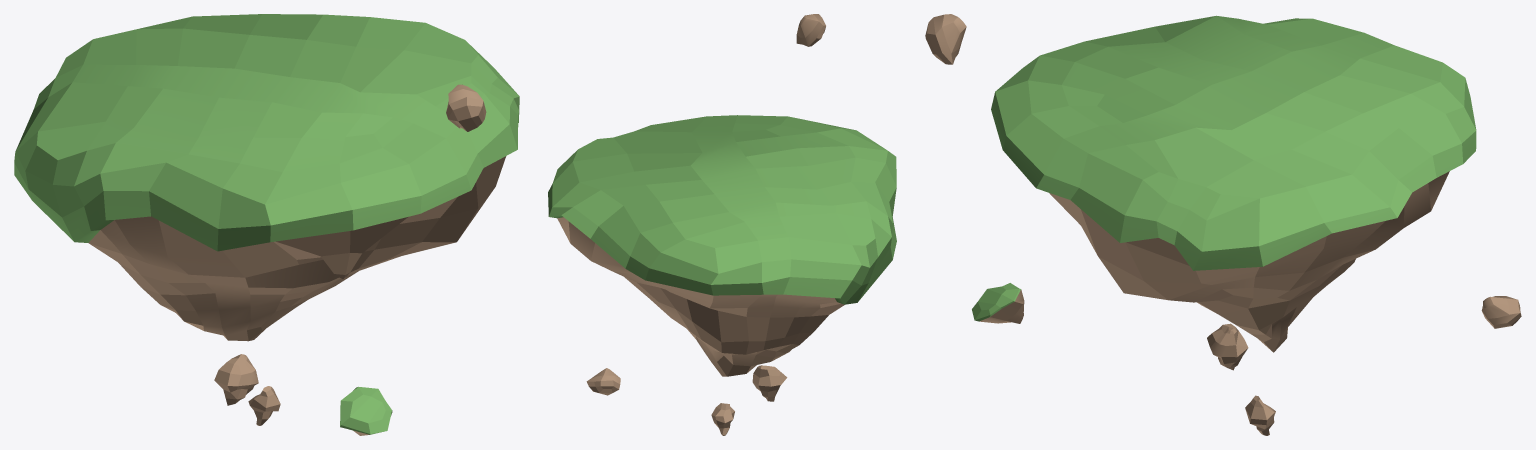
The model's file is Island.fbx.
The picture shows the model from 3 angles, left to right: view 1: azimuth 30°, elevation 25°; view 2: azimuth 150°, elevation 25°; view 3: azimuth 270°, elevation 25°; orthographic projection. The views are drawn at different scales.
Visible parts, largest first — view 1: Island; view 2: Island; view 3: Island.
Boxes of the visible parts, <box> form: Island: <box>14,14,519,435</box>; Island: <box>548,14,896,435</box>; Island: <box>925,14,1521,435</box>.
Size of the model in its own units: 8522 by 9942 by 8112.
